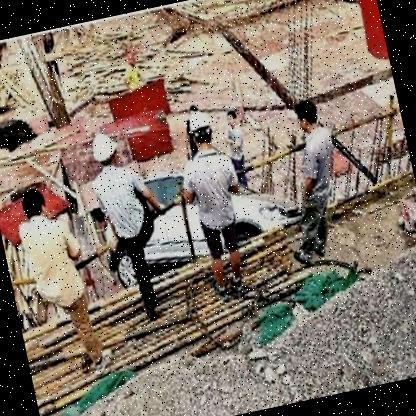capacete: (88, 129, 122, 171), (184, 108, 216, 150)
sem_capacete: (20, 184, 52, 224), (292, 98, 322, 134), (226, 108, 240, 128)
sem_colete_refletivo: (14, 208, 86, 310), (181, 146, 246, 235), (92, 164, 152, 242), (296, 126, 342, 204), (223, 123, 247, 164)
